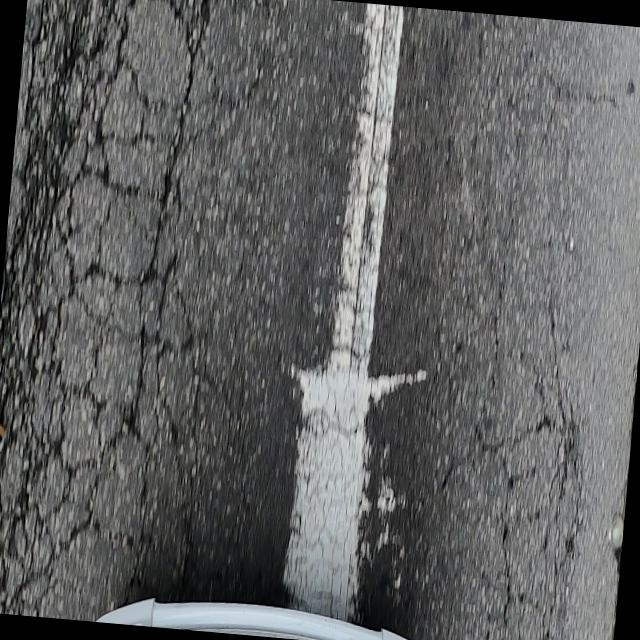Retak-Buaya: (0, 0, 209, 620), (441, 417, 581, 640)
